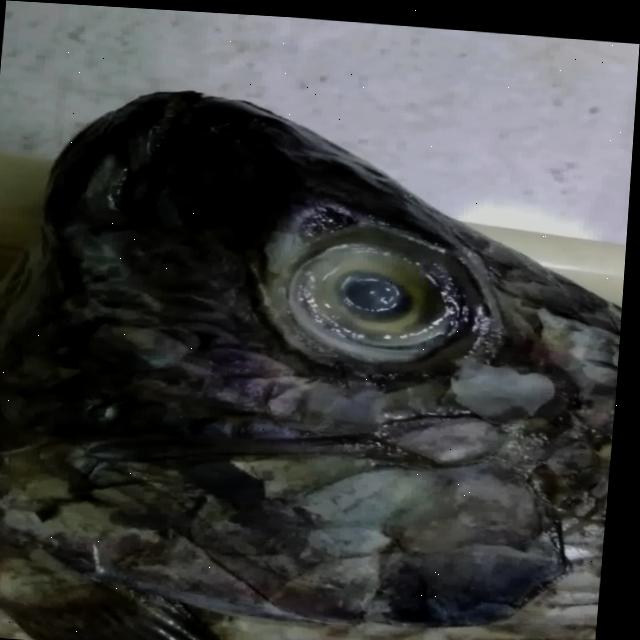Non-Fresh: (270, 211, 477, 392)
